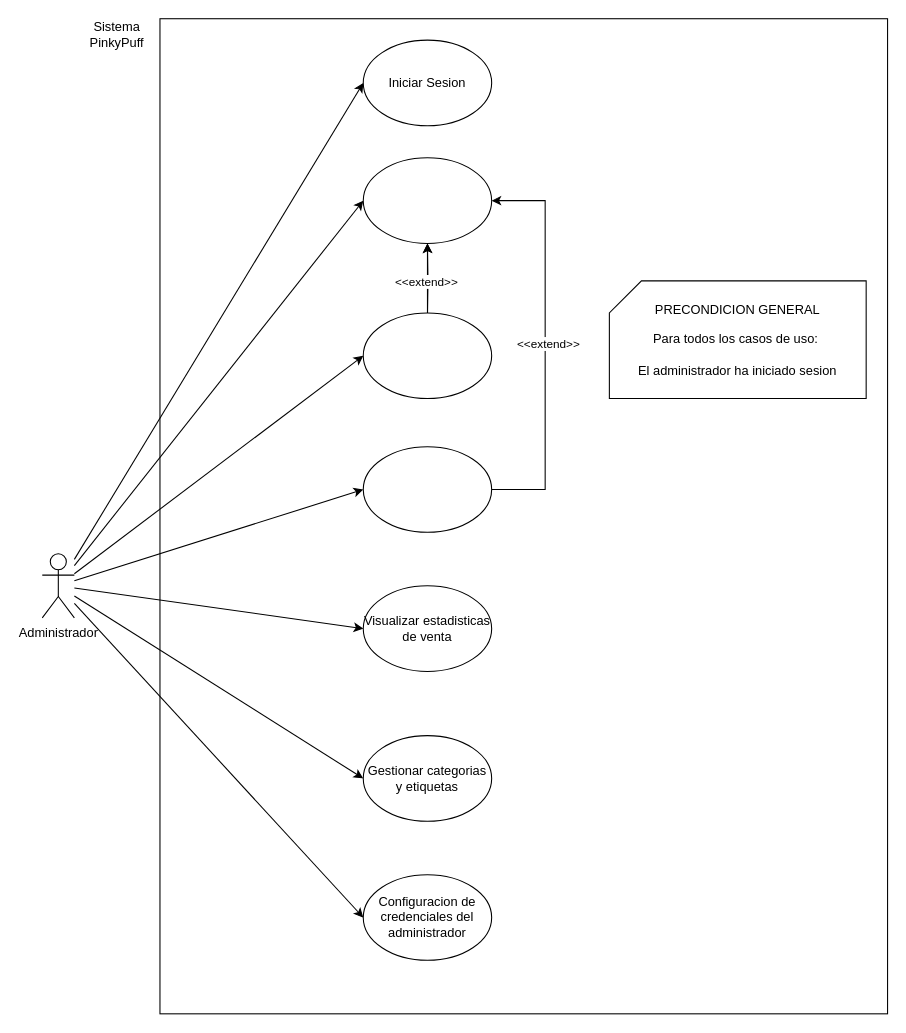
Image size: 906x1033. Some labels were removed from this diagram. The shapes that lost their labels are listed below. From the top down, each one's centre as x and y in pixels, then its label:
(x=427, y=200): Registrar Producto
(x=427, y=355): Gestionar pedidos
(x=427, y=489): Gestionar clientes
